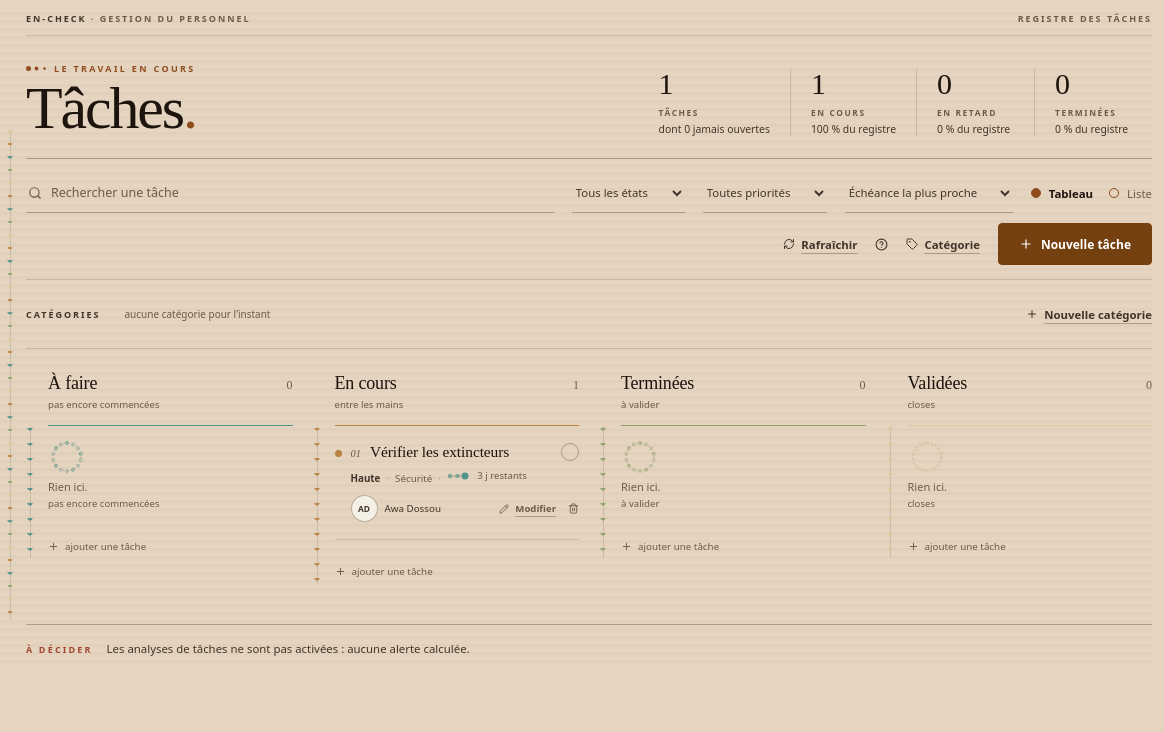
Scenario: la vue Tâches › bascule en liste et relit l’état de chaque tâche
This screenshot has width=1164, height=732.
Click the button "Liste".
click(1131, 193)  # box [1109,173,1152,213]
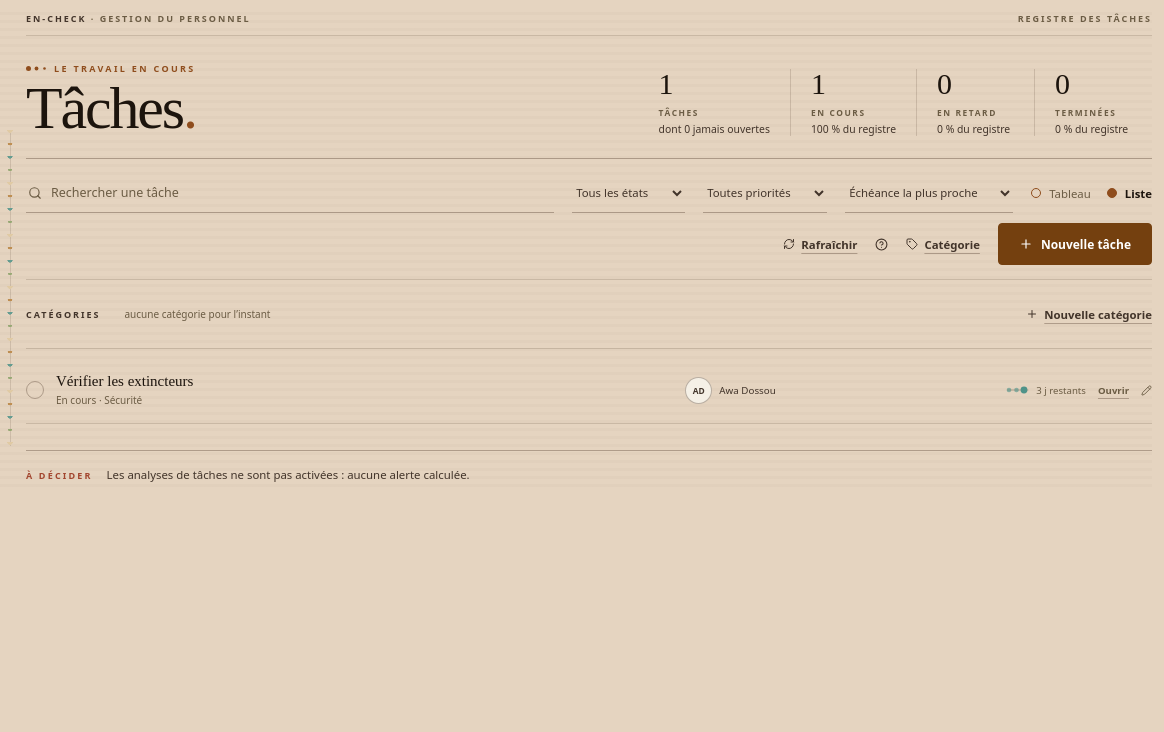
Result: the element with class "rg-ligne" is shown at [26,357,1152,424]
Result: the text "En cours · Sécurité" is shown at [56,393,142,407]
